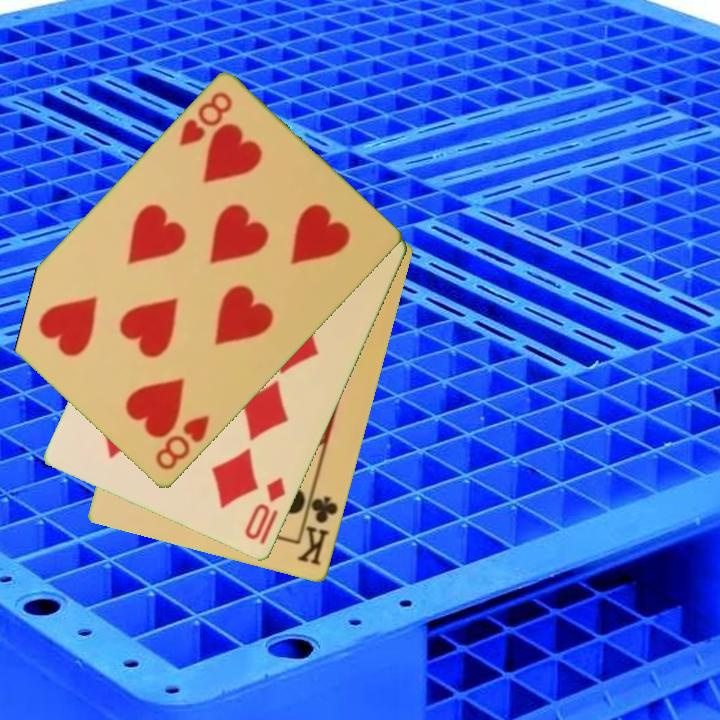10d: (241, 474, 289, 544)
8h: (175, 88, 236, 151), (152, 412, 213, 474)
Kc: (294, 485, 341, 569)
